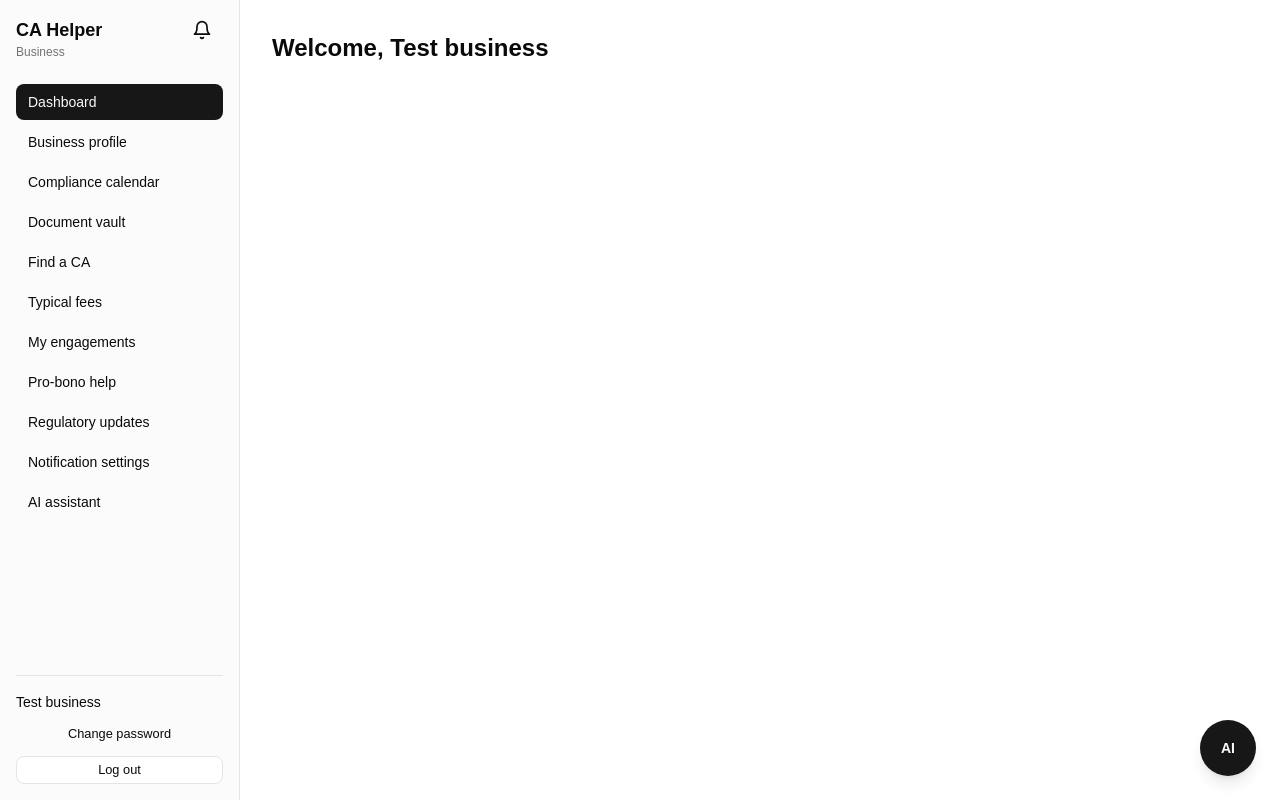
Test case: session › sends no request with the old token after logging out
Expected: the heading "Welcome, Test business" is shown, [272,34,548,61]
Click the button "Log out" at (120, 770), box [16,756,223,784]
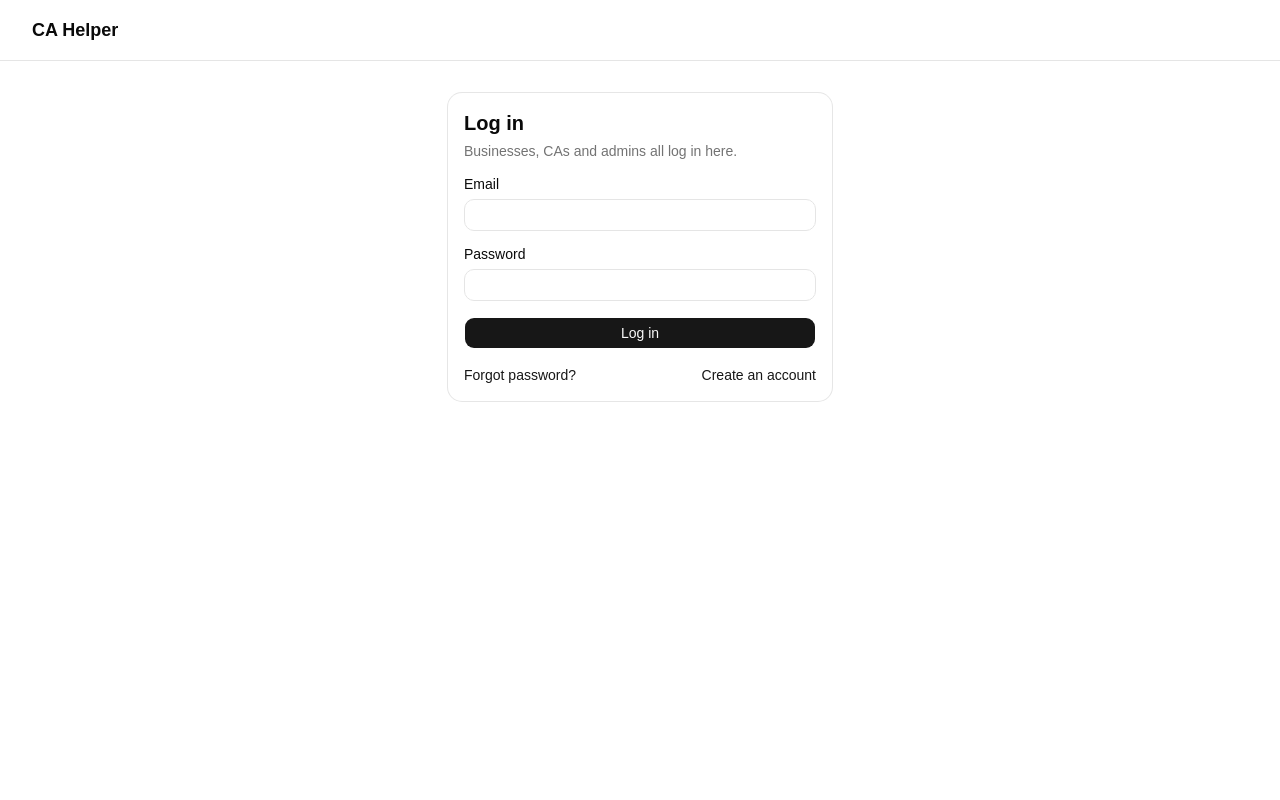
Expected: the heading "Log in" is shown, [464,112,524,134]
